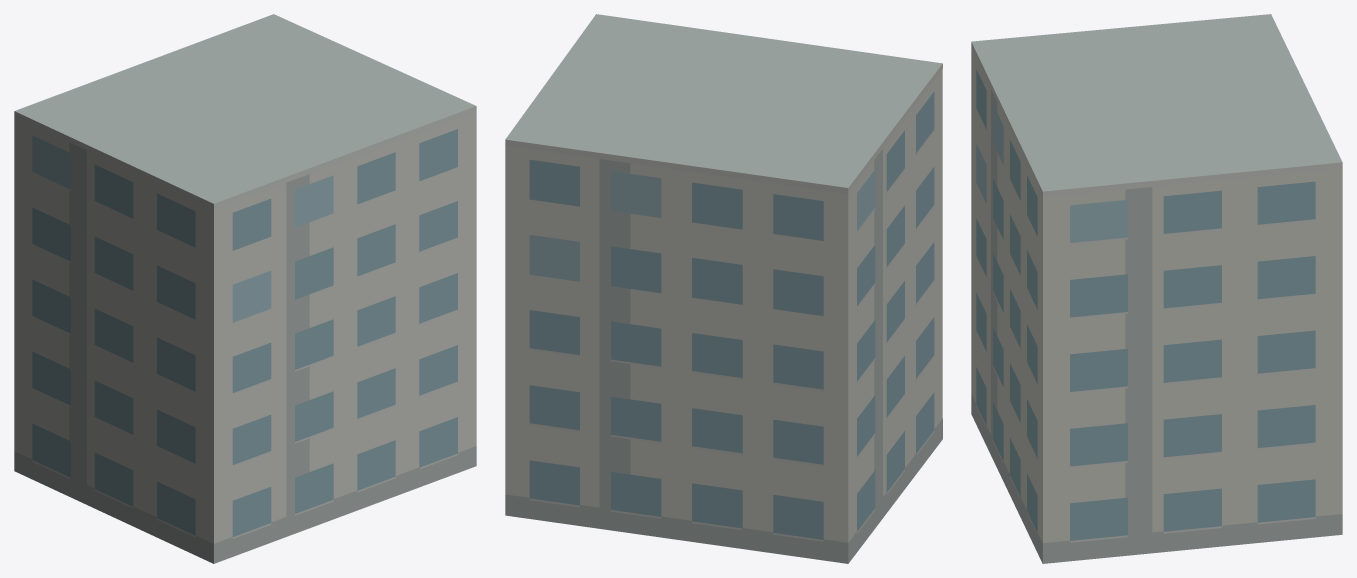
The model's file is survey-upis-32704624.glb.
3 views of the same model, side by side, from view 1: azimuth 30°, elevation 25°; view 2: azimuth 150°, elevation 25°; view 3: azimuth 270°, elevation 25° (orthographic). The views are drawn at different scales.
Parts seen in each view (by area): view 1: survey-upis-32704624.tmp; view 2: survey-upis-32704624.tmp; view 3: survey-upis-32704624.tmp.
Boxes of the visible parts, box(x1,y1,x2,y2) form: survey-upis-32704624.tmp: box(14, 14, 476, 563); survey-upis-32704624.tmp: box(505, 14, 942, 563); survey-upis-32704624.tmp: box(971, 14, 1342, 563).
Size of the model in its own units: 15.61 by 15.25 by 13.8.
